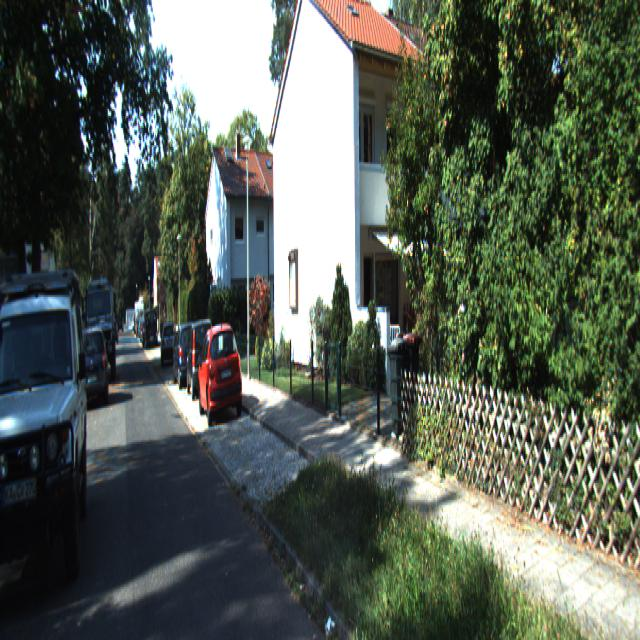Car: (0, 245, 88, 612), (197, 316, 243, 428), (83, 281, 114, 383), (76, 324, 107, 413), (184, 321, 214, 403), (172, 321, 200, 391), (161, 321, 177, 368)
